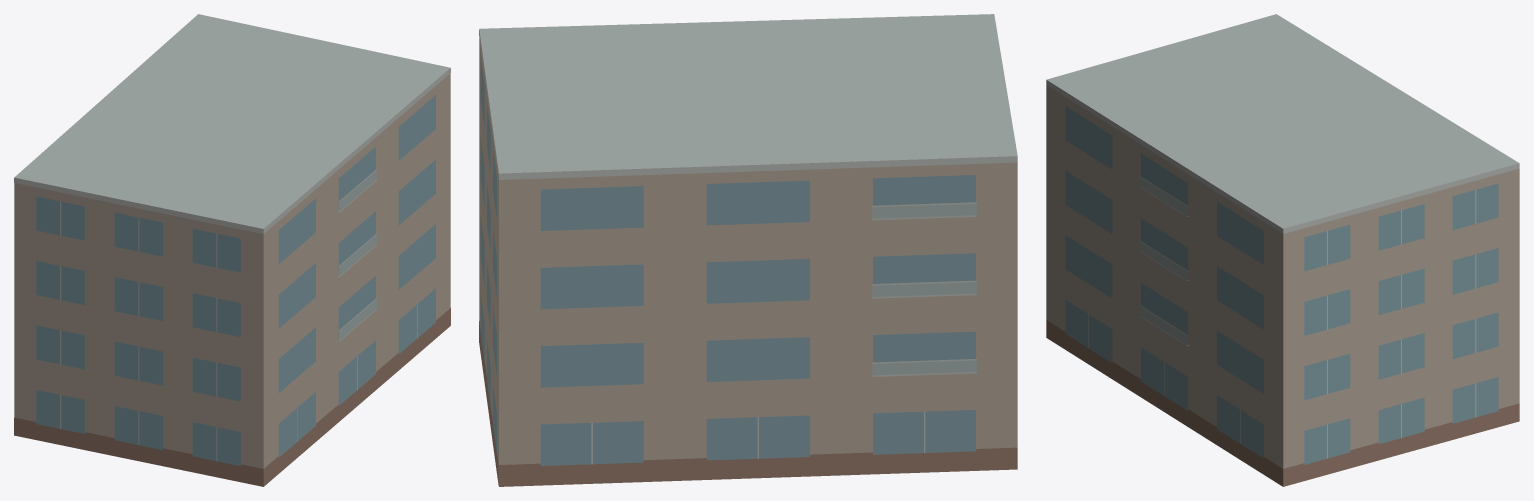
The model's file is survey-upis-32972892.glb.
3 views of the same model, side by side, from view 1: azimuth 30°, elevation 25°; view 2: azimuth 150°, elevation 25°; view 3: azimuth 270°, elevation 25° (orthographic). The views are drawn at different scales.
Parts seen in each view (by area): view 1: survey-upis-32972892.tmp; view 2: survey-upis-32972892.tmp; view 3: survey-upis-32972892.tmp.
Boxes of the visible parts, <box> form: survey-upis-32972892.tmp: <box>14,14,450,486</box>; survey-upis-32972892.tmp: <box>479,14,1017,486</box>; survey-upis-32972892.tmp: <box>1046,14,1519,486</box>.
Bounding box in the file's own units: 21.34 × 11.95 × 19.88.
